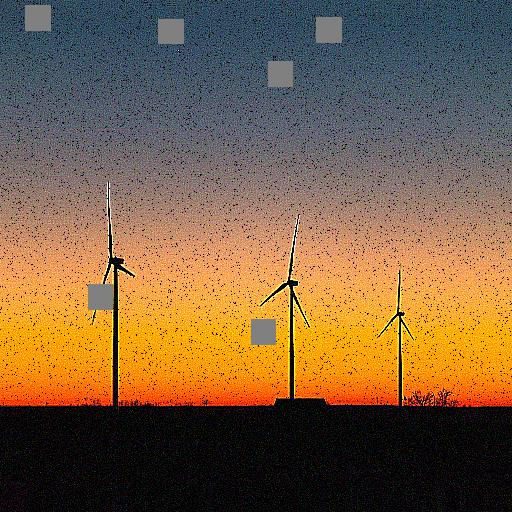wind turbine: (89, 178, 140, 402), (255, 214, 311, 398), (378, 268, 416, 404)
